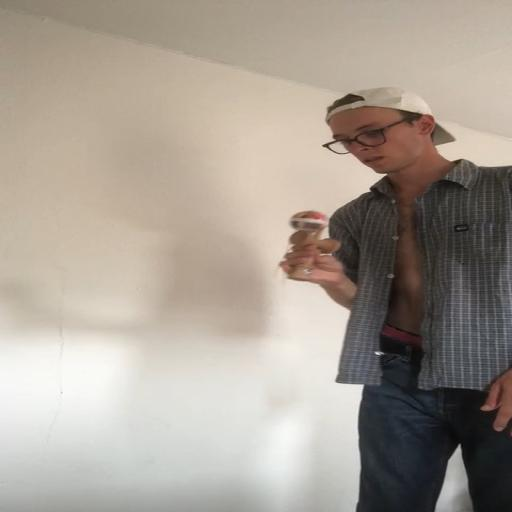kendama_ball: (291, 210, 327, 231)
